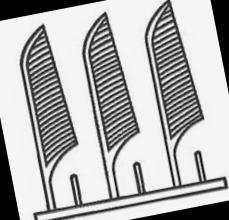Reed: (145, 0, 212, 176), (17, 20, 78, 212), (81, 10, 143, 189)
